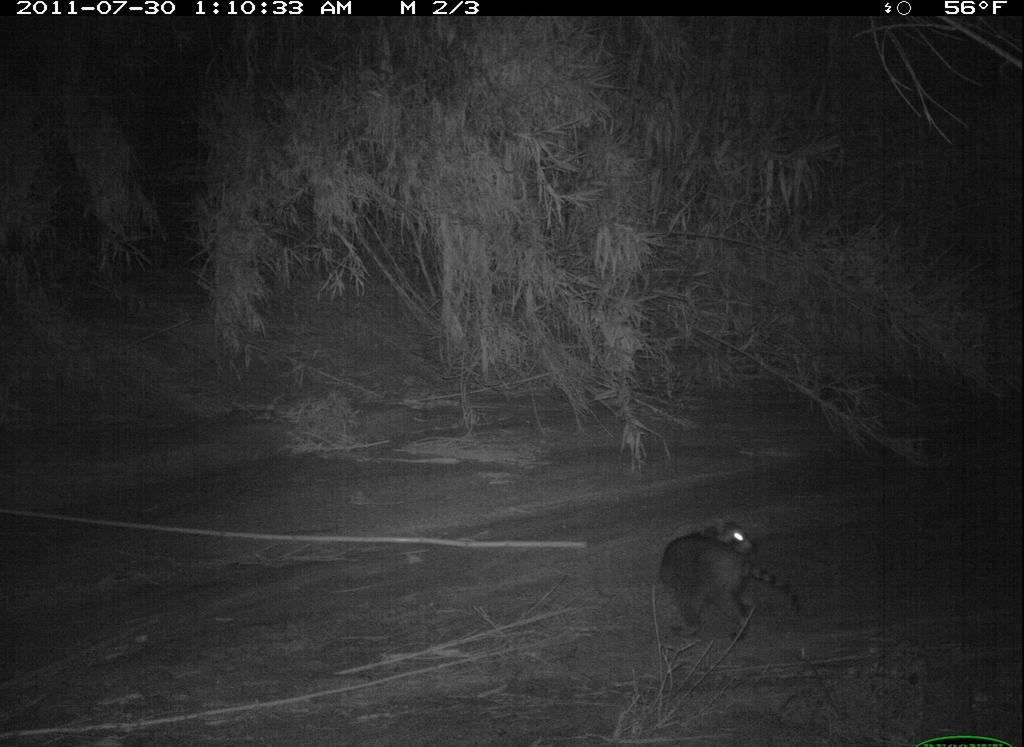raccoon: (651, 513, 822, 646)
